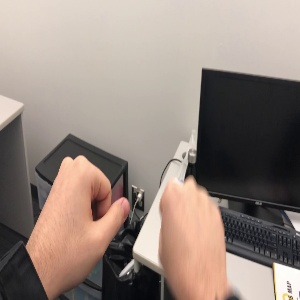hand: (29, 156, 129, 275), (159, 177, 226, 292)
